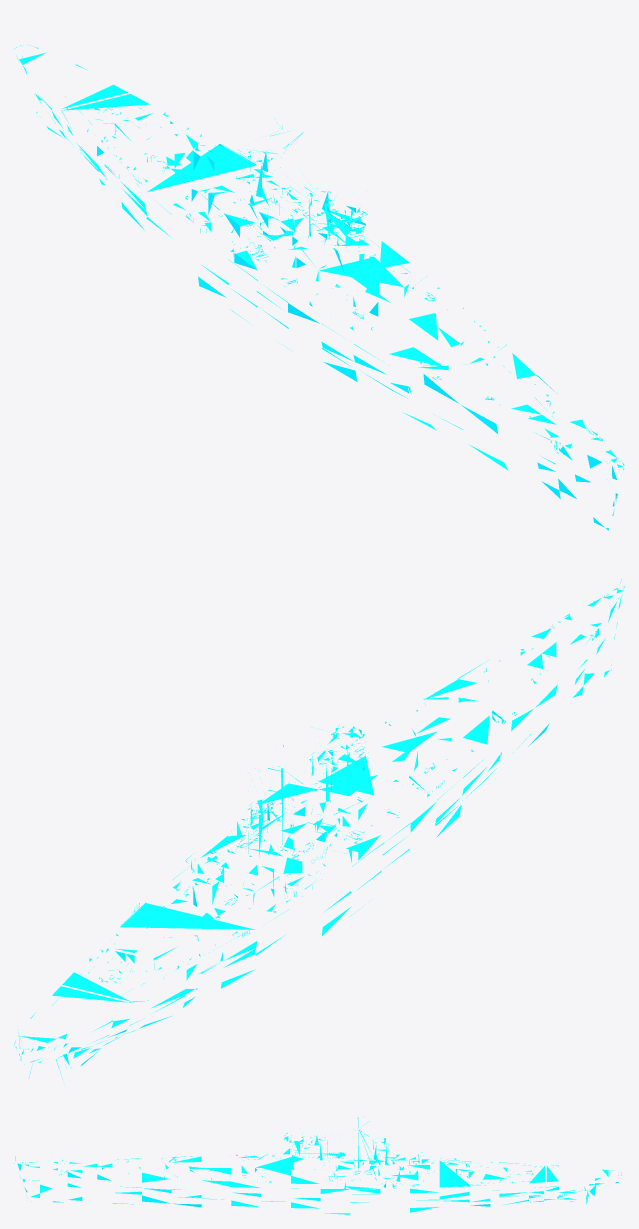
Rendered from Poltava.glb.
The picture shows the model from 3 angles, top to bottom: view 1: azimuth 30°, elevation 25°; view 2: azimuth 150°, elevation 25°; view 3: azimuth 270°, elevation 25°; orthographic projection. The views are drawn at different scales.
Size of the model in its own units: 2.04 by 2.61 by 16.93.
